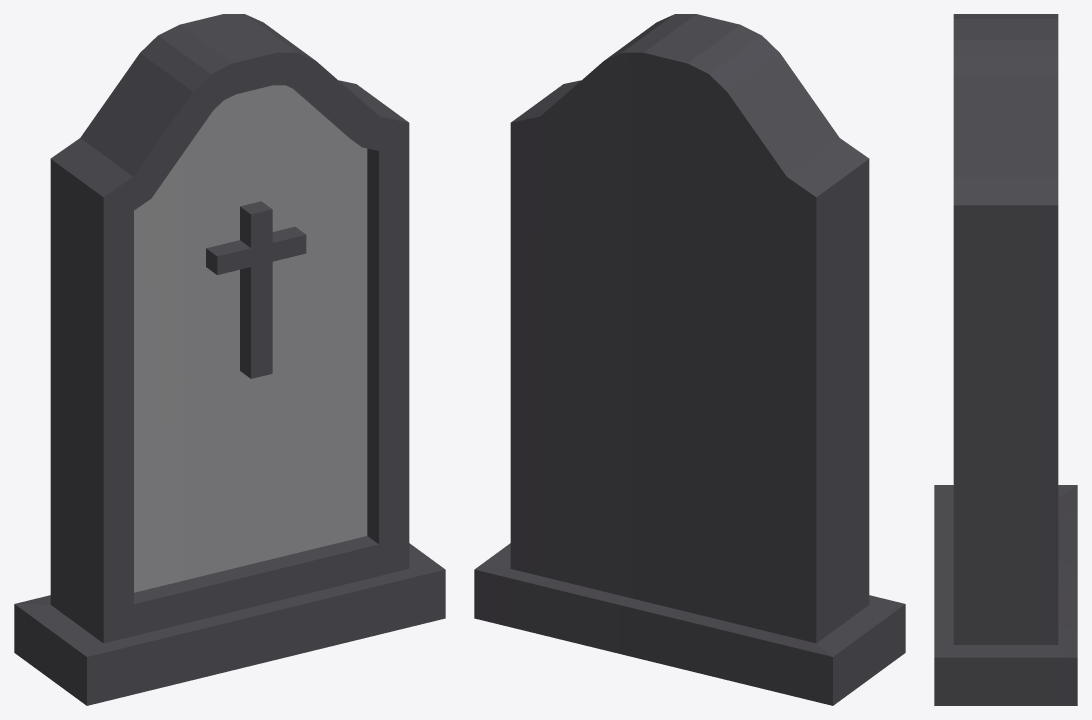
The picture shows the model from 3 angles, left to right: view 1: azimuth 30°, elevation 25°; view 2: azimuth 150°, elevation 25°; view 3: azimuth 270°, elevation 25°; orthographic projection.
Parts seen in each view (by area): view 1: TombStone05; view 2: TombStone05; view 3: TombStone05.
Part boxes in pixels (<box>): TombStone05: <box>14,14,445,705</box>; TombStone05: <box>474,14,905,705</box>; TombStone05: <box>934,14,1077,705</box>.
Size of what is drawn, in the model's own units: 1.07 by 1.71 by 0.3753.
Materials: 1 (1 with a texture image).
